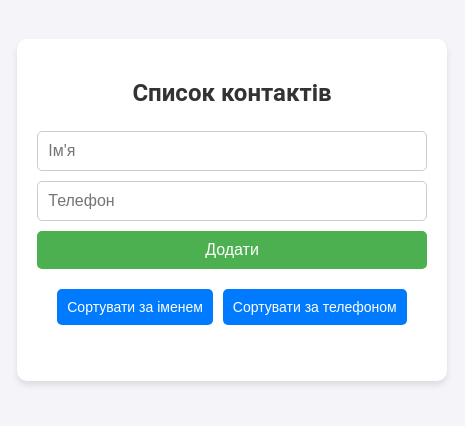
Test: Додаток контактів - тести › Перевіряє зміну кнопки під час редагування
Type "Юля" into the field with placeholder "Ім".
click(232, 151); type("Юля")  # box [37,131,427,171]
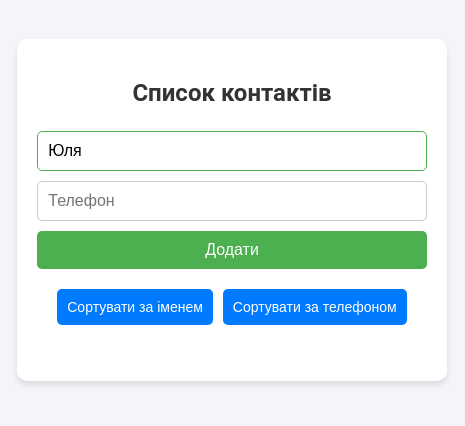
Type "777999555" into the field with placeholder "Телефон".
click(232, 201); type("777999555")  # box [37,181,427,221]
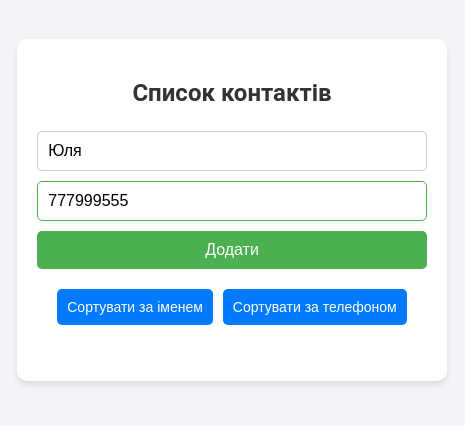
Click the button "Додати".
click(232, 250)  # box [37,231,427,269]
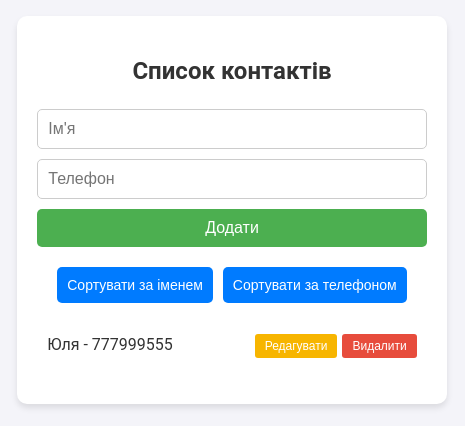
Click the button "Редагувати".
click(297, 346)  # box [255,334,338,358]
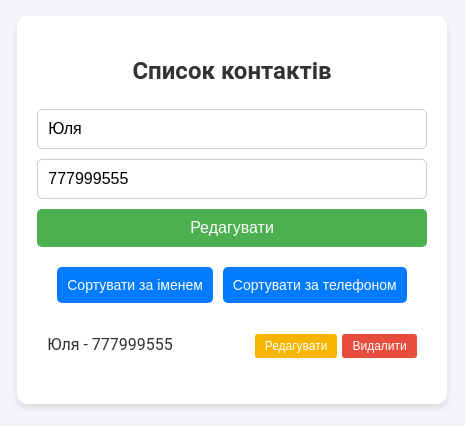
expect the 1st button "Редагувати" is shown: met, box [37,208,427,246]
expect the button "Додати" is gone: met
